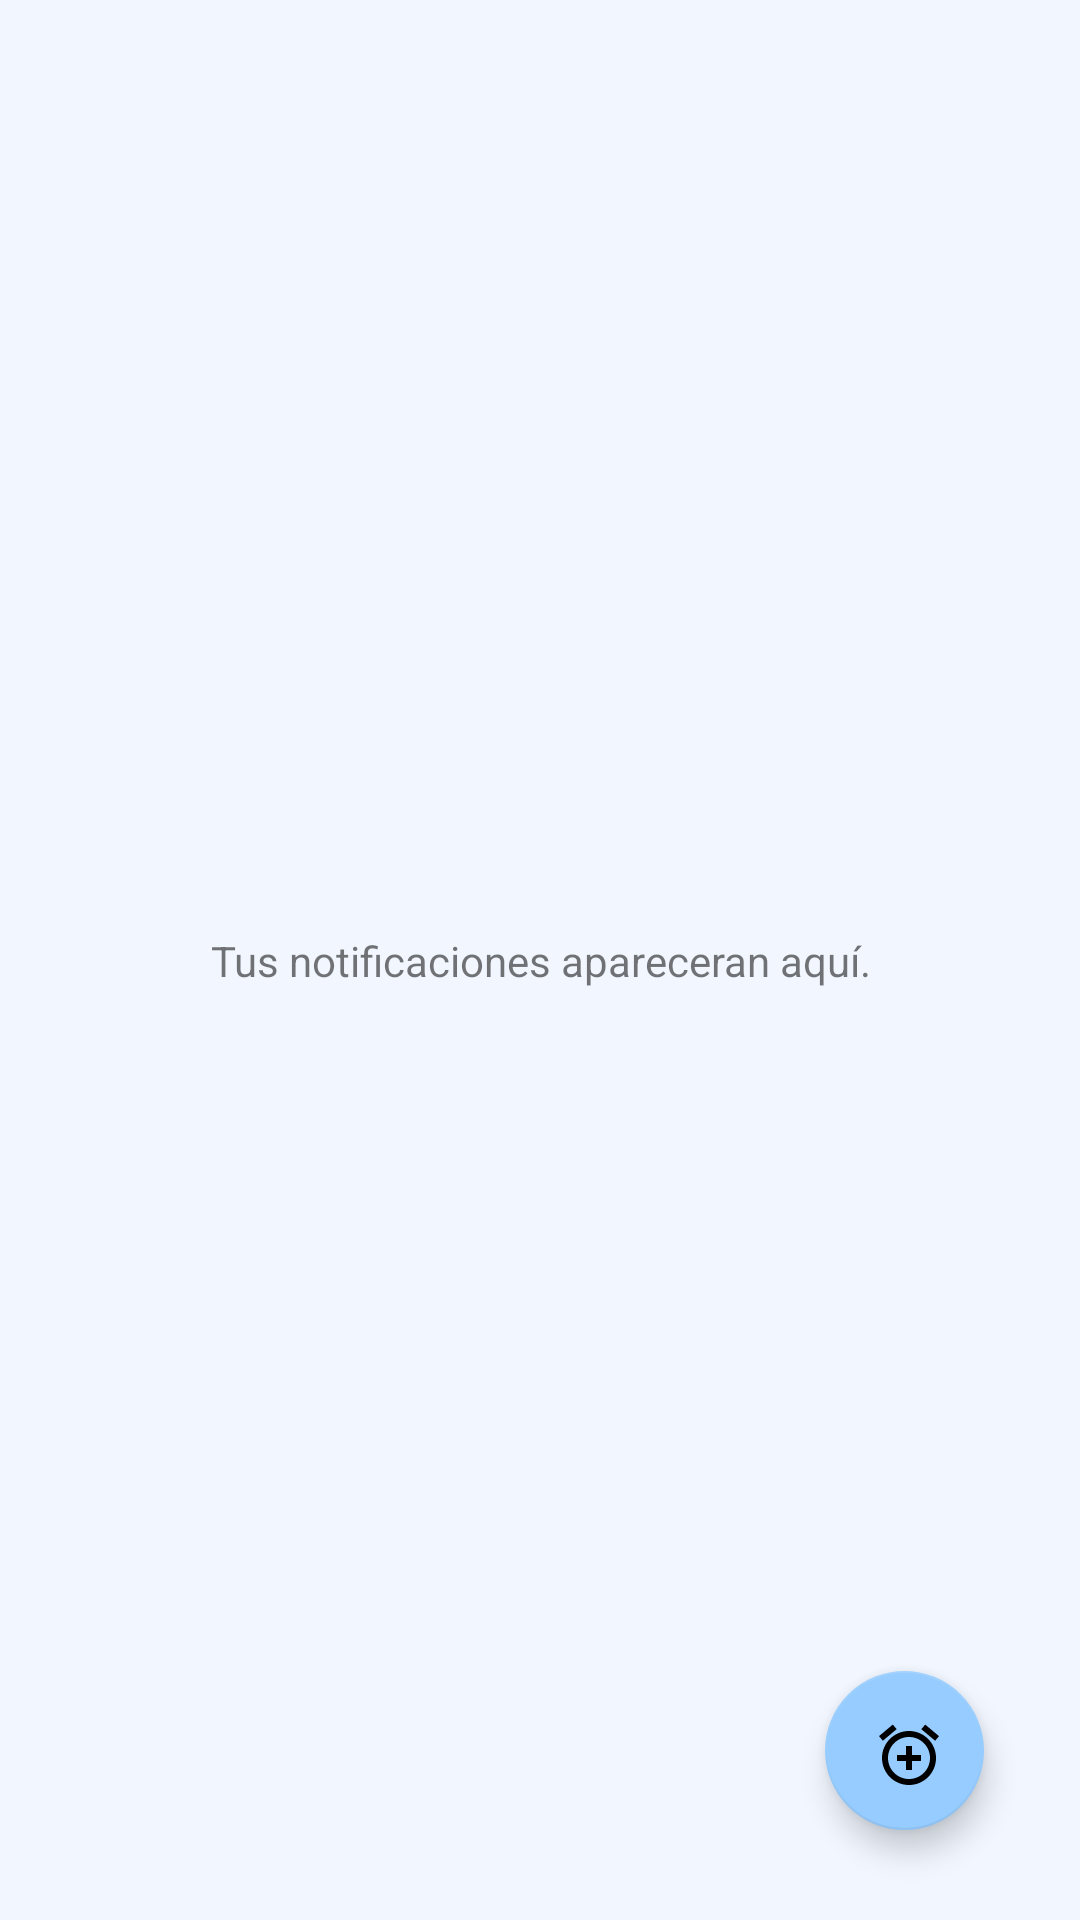

Screen size 1080*1920. Icon name, then its center in pixels as (x=x, y=y):
alarm add: (x=904, y=1750)
